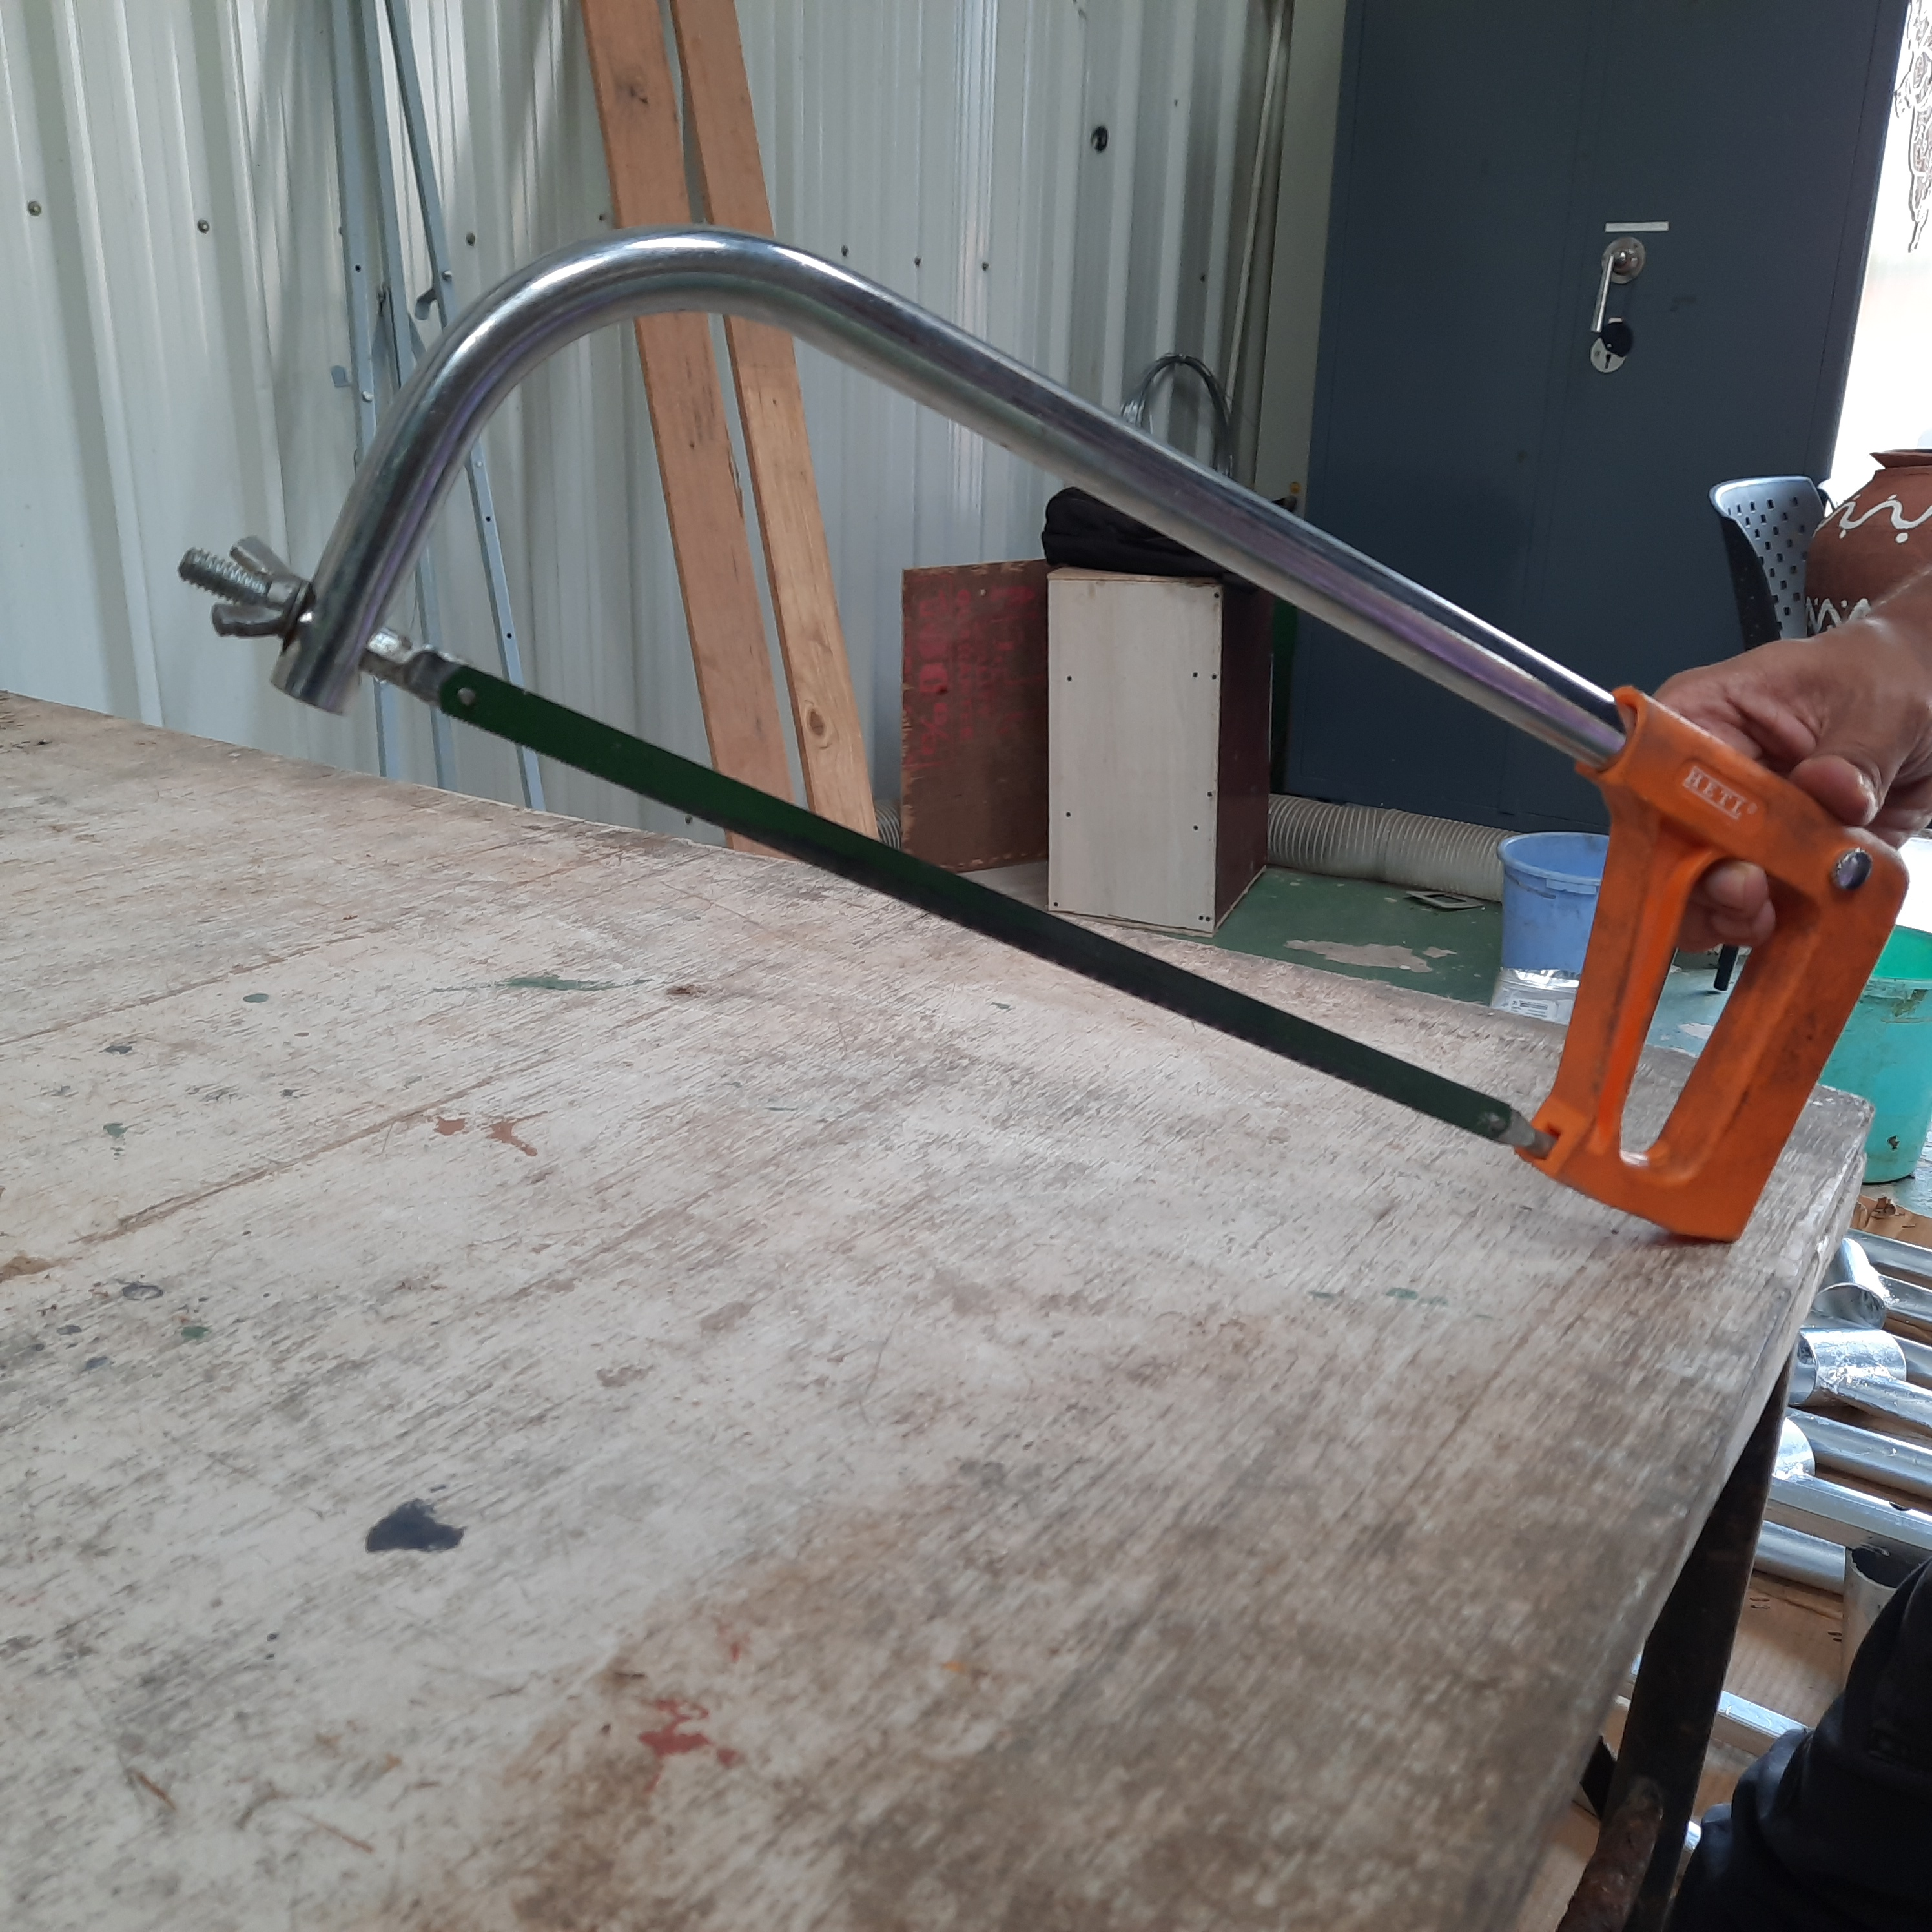Hexaframe: (177, 196, 1921, 1300)
